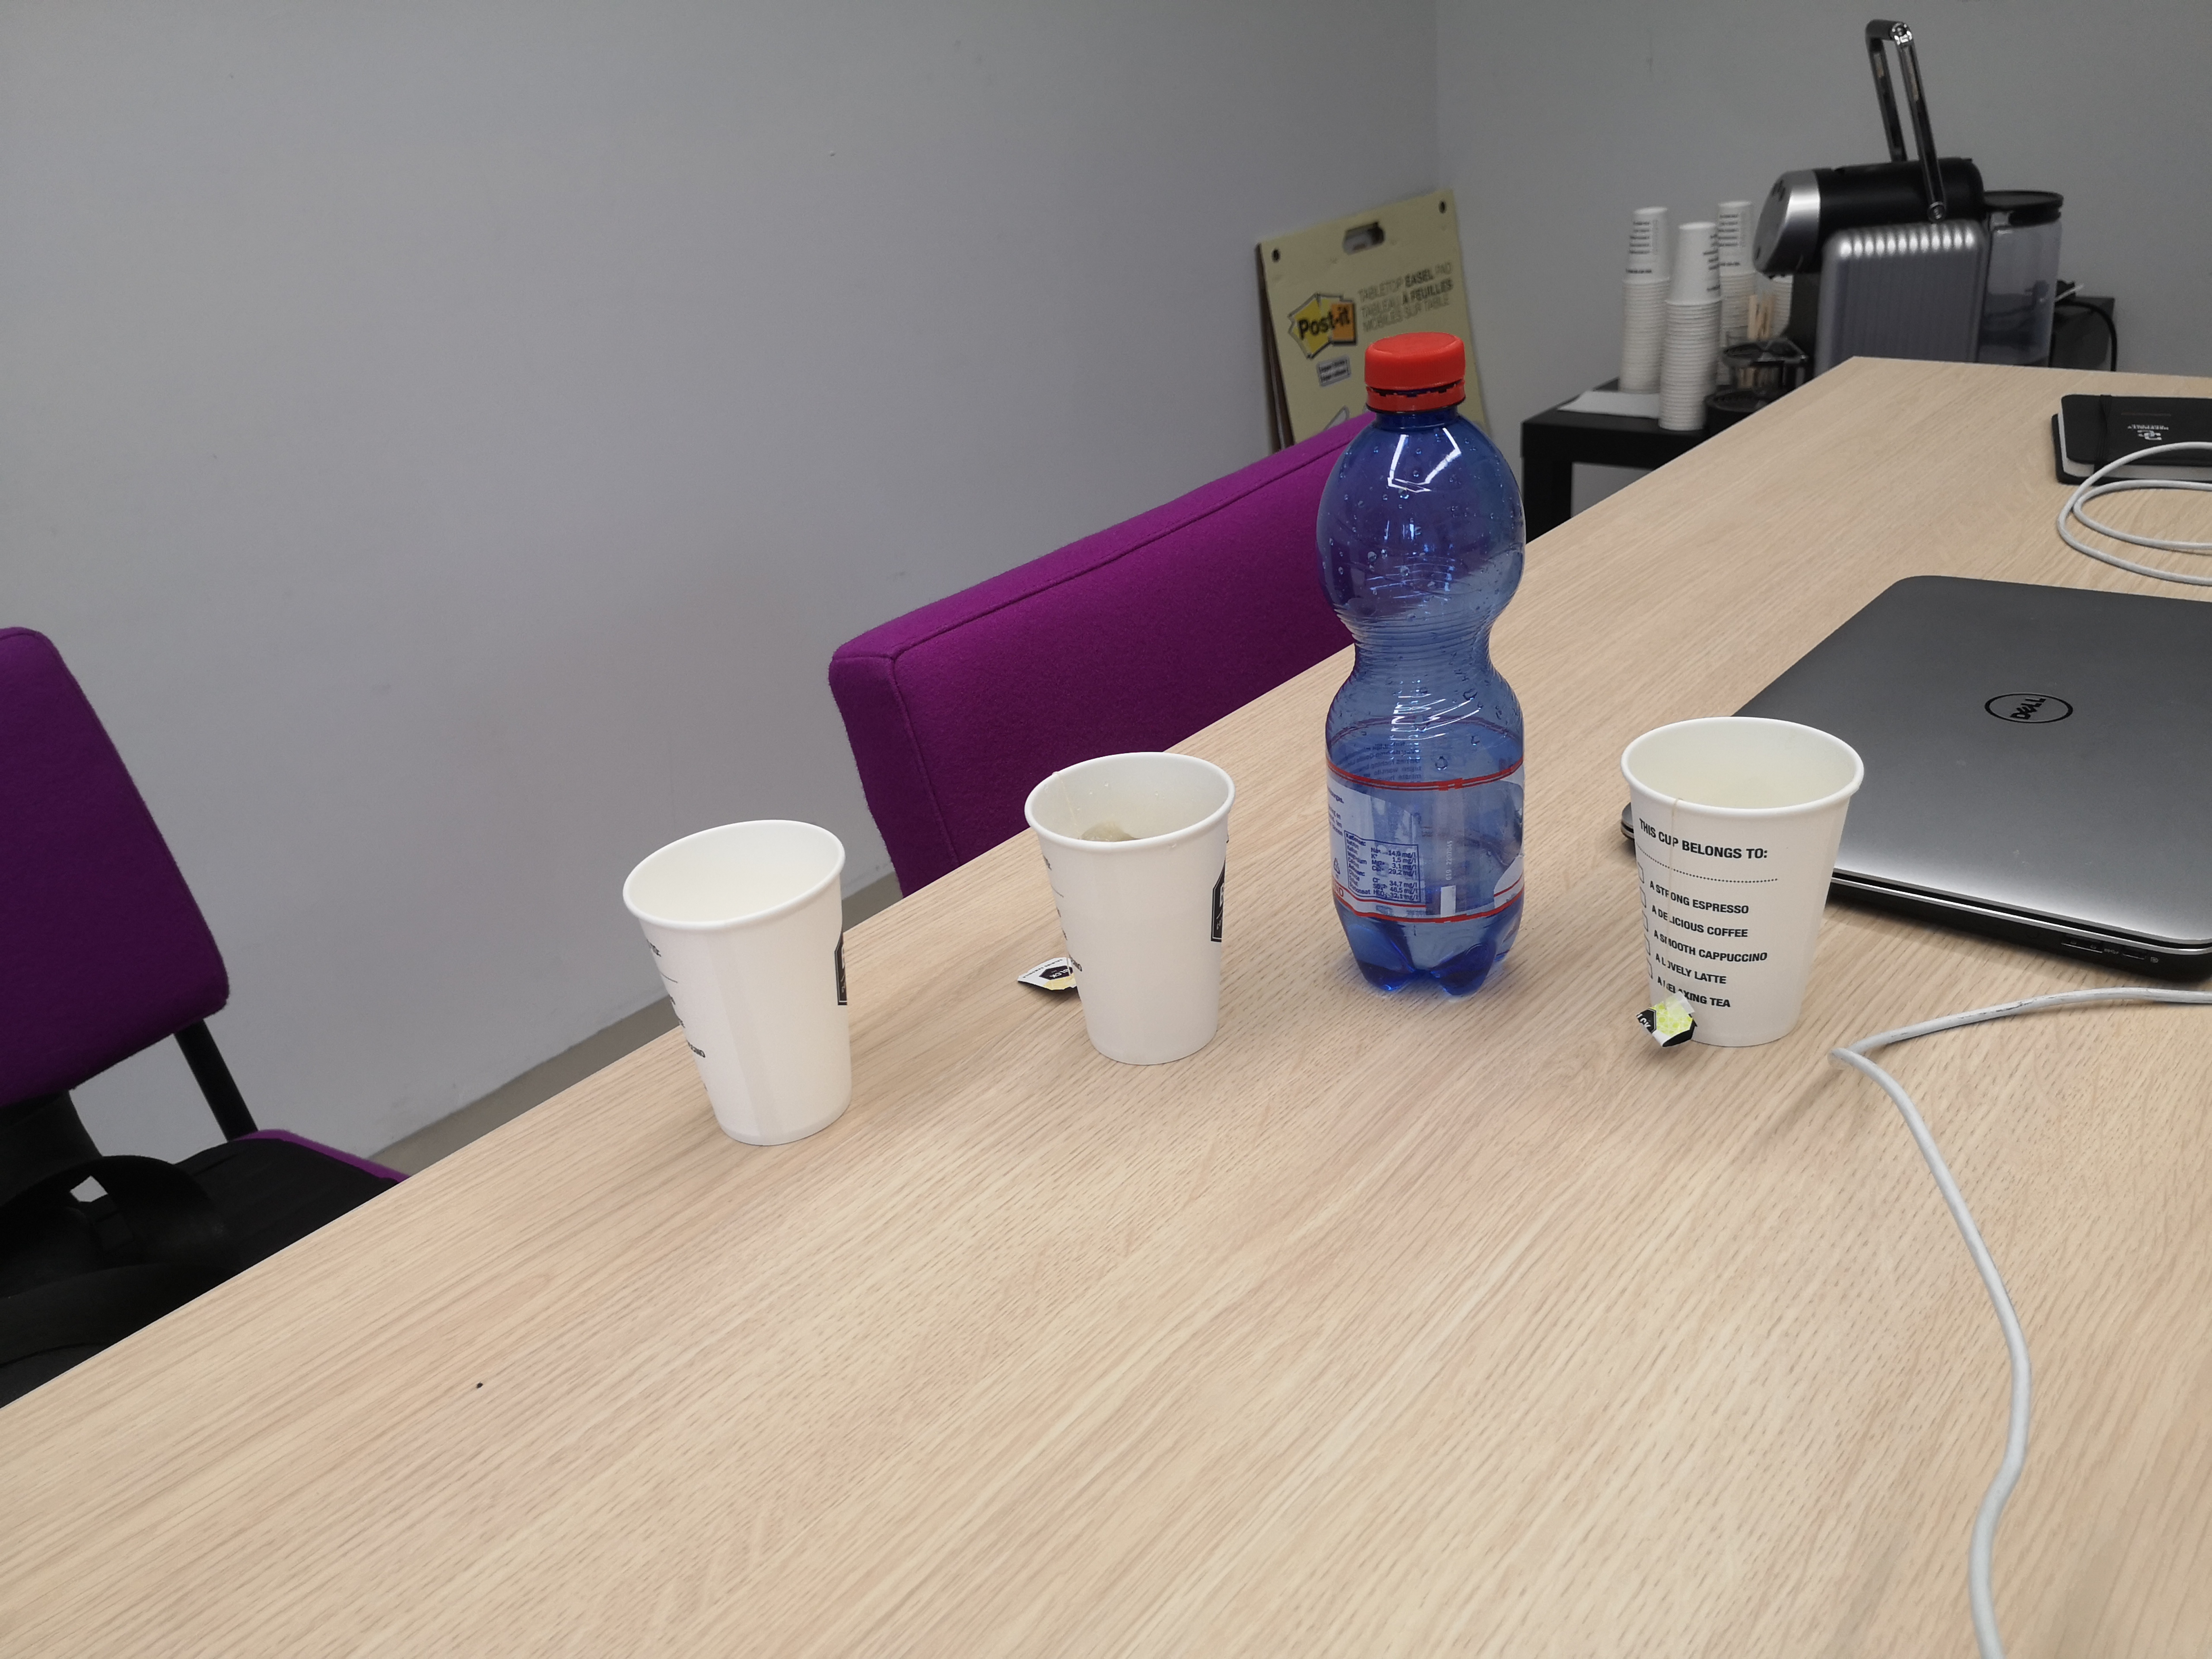cup: (604, 810, 923, 1164), (1609, 704, 1874, 1065), (1012, 742, 1271, 1082), (1665, 220, 1737, 322), (1616, 200, 1676, 301)
plastic_bottle: (1299, 314, 1559, 1018)
